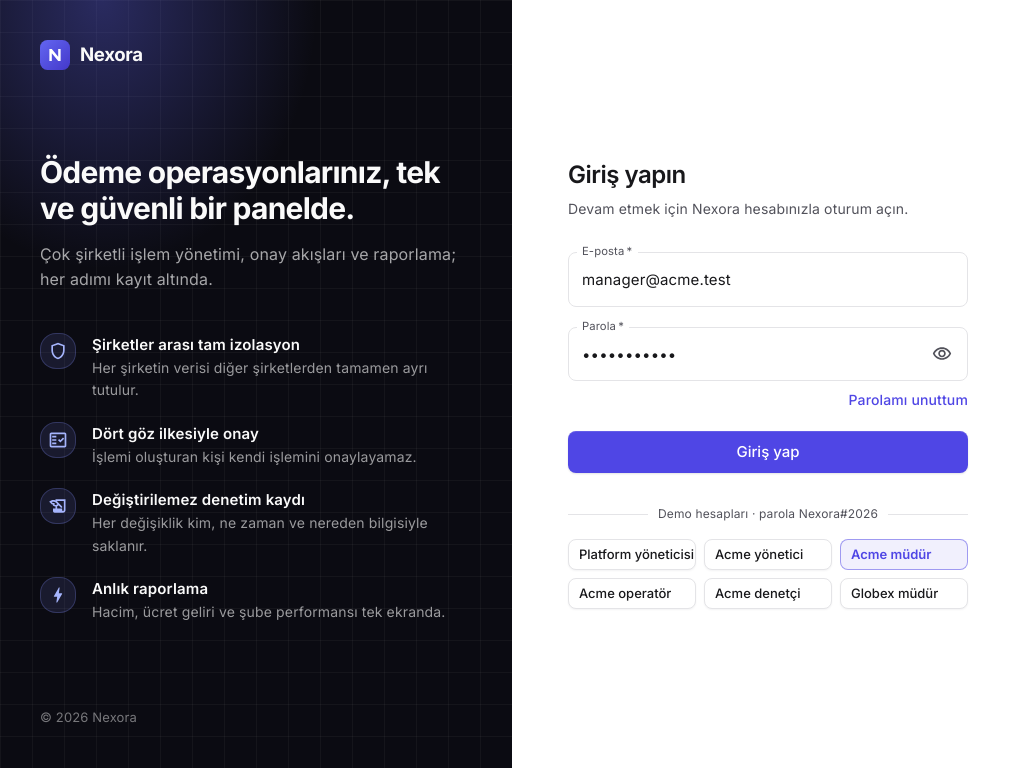
Test: sign-in › shows the server message for wrong credentials
The width and height of the screenshot is (1024, 768).
In the password field labelled "Parola *": (744, 354) [568,327,919,381], type "wrong"
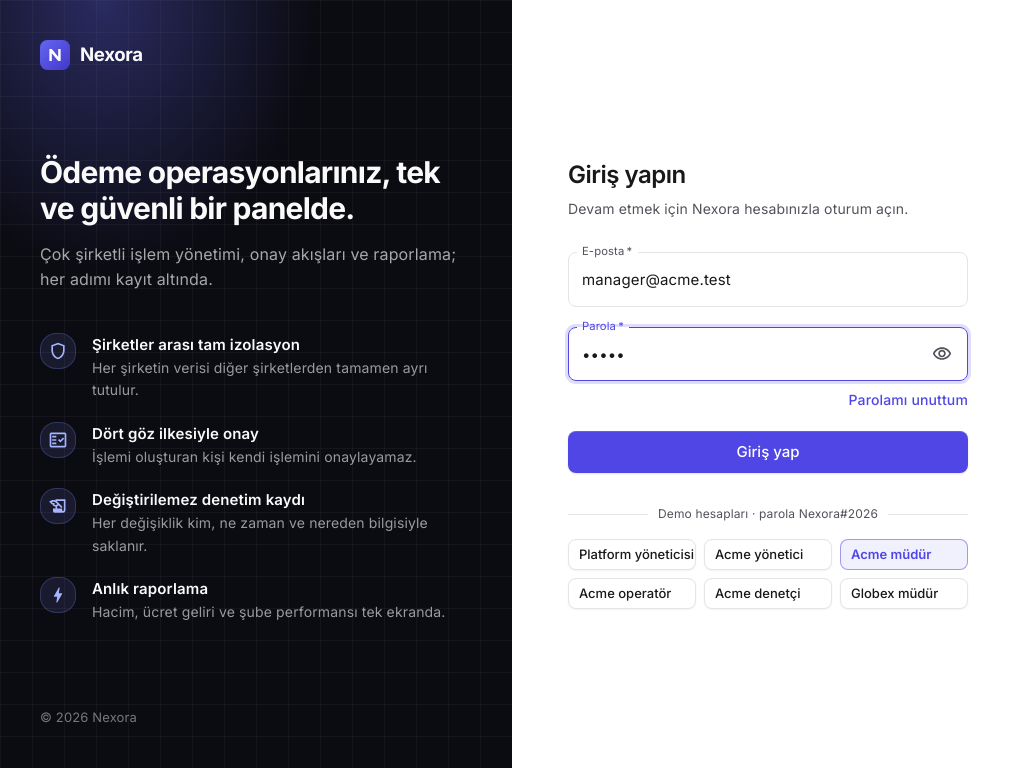
Click the button "Giriş yap": (768, 452) [568,431,968,473]
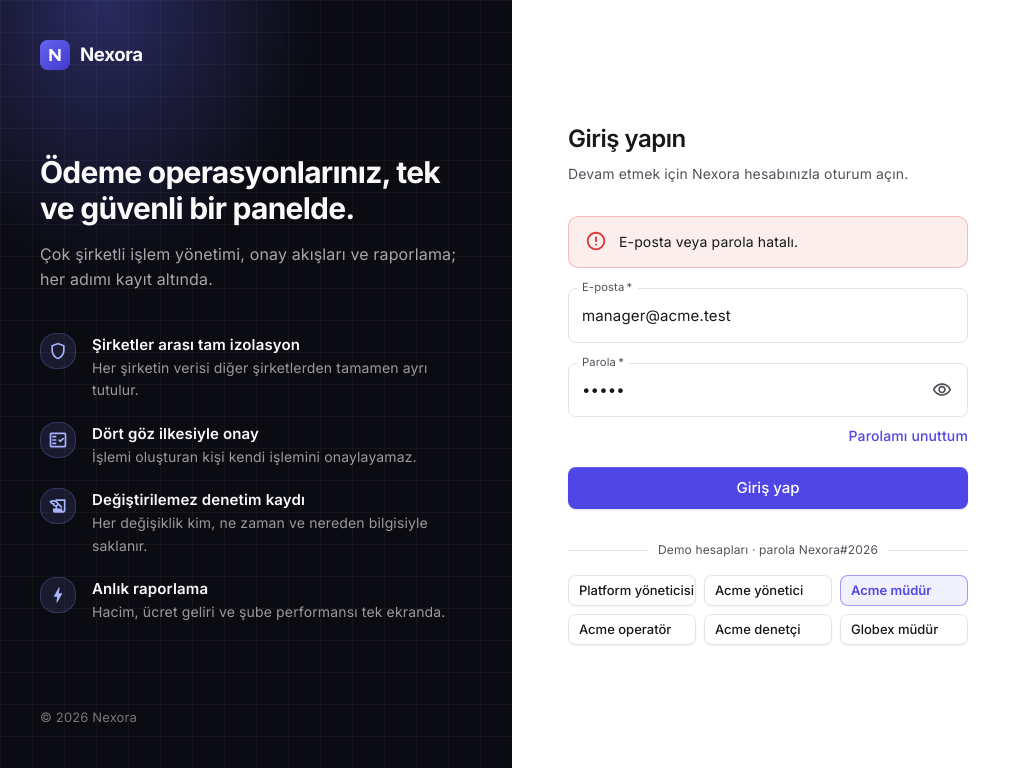
Now the message reads "E-posta veya parola hatalı.", box [619,233,798,250]
